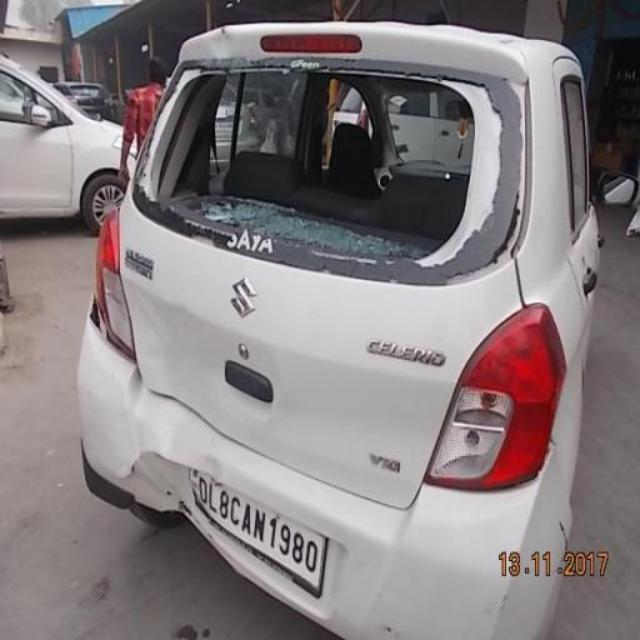dent: (124, 427, 222, 515), (127, 368, 233, 442)
glass shatter: (138, 63, 515, 264)
lamp broken: (92, 292, 137, 371)
scratch: (558, 521, 573, 555)
